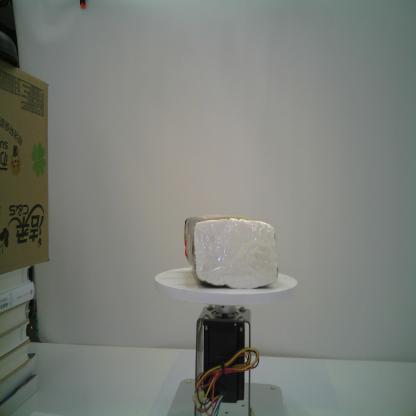Tissue: (184, 214, 278, 289)
